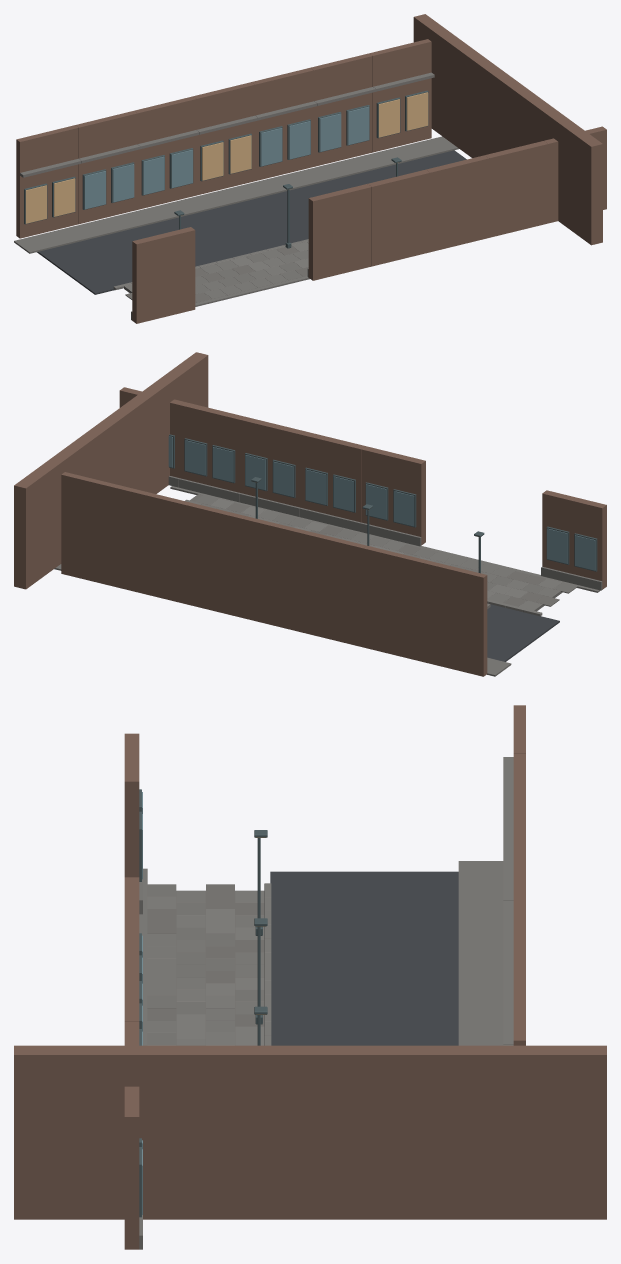
File: EveningStreet.fbx
3 views of the same model, one above another, from view 1: azimuth 30°, elevation 25°; view 2: azimuth 150°, elevation 25°; view 3: azimuth 270°, elevation 25° (orthographic). The views are drawn at different scales.
Visible parts, largest first — view 1: Cross street block, Asphalt, Far sidewalk, Near storefront, Near storefront.001, Near storefront.002, Near storefront.004, Near storefront.003, Shop facade, Shop facade.006, Shop facade.001, Shop facade.003 (+19 smaller); view 2: Cross street block, Shop facade, Shop facade.001, Shop facade.003, Shop facade.005, Shop facade.004, Shop facade.006, Shop facade.002, Near storefront, Near storefront.001, Near storefront.002, Near storefront.004 (+19 smaller); view 3: Cross street block, Asphalt, Far sidewalk, Near storefront.005, Near storefront, Pavement margin, Near storefront.001, Near storefront.002, Near storefront.003.
Part boxes in pixels (<box>): Cross street block: <box>413,14,602,245</box>; Asphalt: <box>37,150,466,294</box>; Far sidewalk: <box>14,136,458,253</box>; Near storefront: <box>132,227,195,323</box>; Near storefront.001: <box>308,184,371,280</box>; Near storefront.002: <box>367,169,430,266</box>; Near storefront.004: <box>485,141,548,237</box>; Near storefront.003: <box>426,155,489,251</box>; Shop facade: <box>16,125,78,238</box>; Shop facade.006: <box>369,39,431,152</box>; Shop facade.001: <box>75,111,137,224</box>; Shop facade.003: <box>193,82,255,195</box>; Cross street block: <box>14,352,208,589</box>; Shop facade: <box>423,560,487,676</box>; Shop facade.001: <box>363,545,426,661</box>; Shop facade.003: <box>242,516,305,632</box>; Shop facade.005: <box>121,486,185,602</box>; Shop facade.004: <box>182,501,245,617</box>; Shop facade.006: <box>61,472,124,588</box>; Shop facade.002: <box>302,531,366,647</box>; Near storefront: <box>542,490,606,589</box>; Near storefront.001: <box>361,446,425,545</box>; Near storefront.002: <box>300,431,365,522</box>; Near storefront.004: <box>180,402,244,492</box>; Cross street block: <box>14,1045,606,1219</box>; Asphalt: <box>270,871,458,1045</box>; Far sidewalk: <box>458,861,503,1045</box>; Near storefront.005: <box>124,1086,139,1249</box>; Near storefront: <box>124,733,139,877</box>; Pavement margin: <box>139,868,147,1045</box>; Near storefront.001: <box>124,877,139,925</box>; Near storefront.002: <box>124,925,139,973</box>; Near storefront.003: <box>124,973,139,1021</box>.
Size of the model in its own units: 2637 by 539 by 1700.
